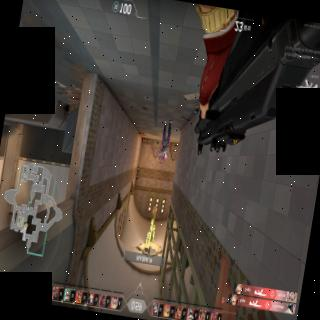ENEMY-BODY: (156, 118, 174, 165)
ENEMY-HEAD: (160, 158, 163, 164)
